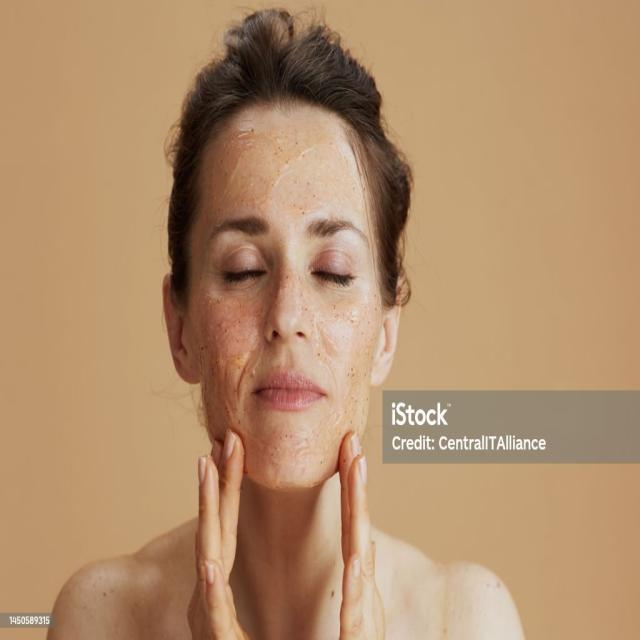dry: (297, 294, 376, 370), (258, 425, 344, 490), (266, 161, 329, 223), (223, 350, 260, 414)
